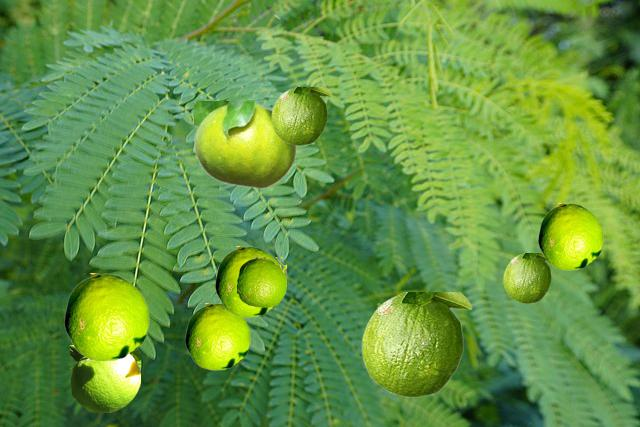dalandan: (361, 292, 471, 396), (194, 101, 296, 188), (64, 273, 148, 360), (70, 345, 139, 411), (215, 246, 278, 316), (185, 303, 249, 369), (538, 203, 602, 269), (271, 87, 331, 144), (503, 253, 551, 302), (237, 257, 285, 306)
